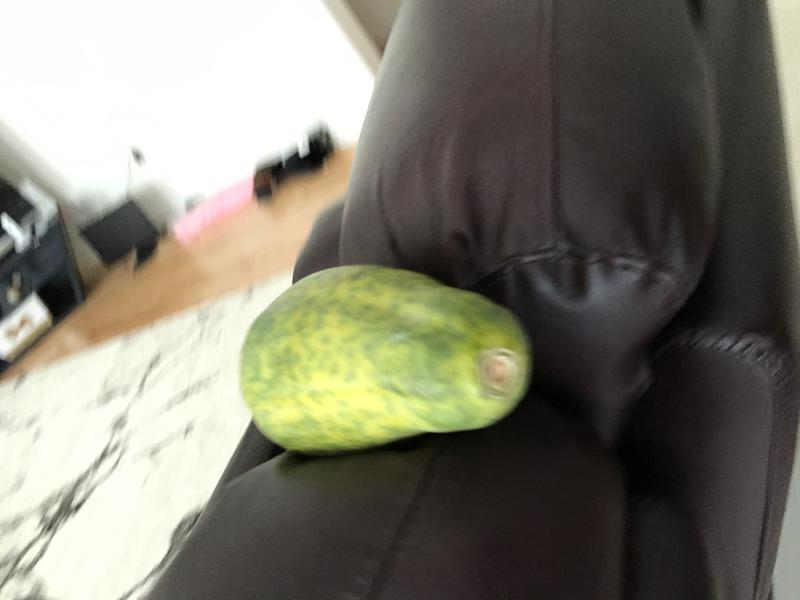papaya: (230, 257, 544, 460)
